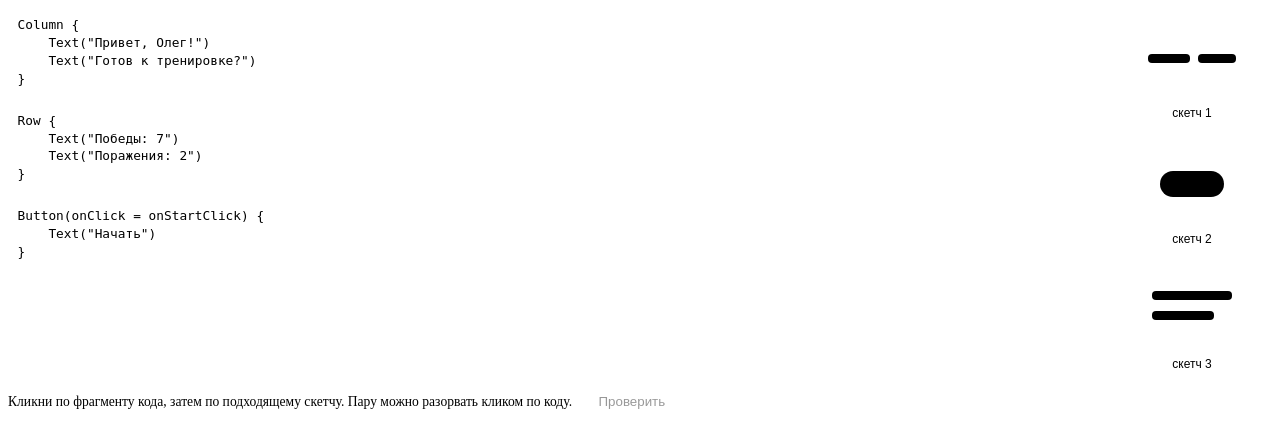
Scenario: click code then sketch creates a pair badge and enables check after all three
Click the button "Column { Text(\"Привет, Олег!\") Text(\"Готов к тренировке?\") }" at (48, 24), box [8,8,1096,96]
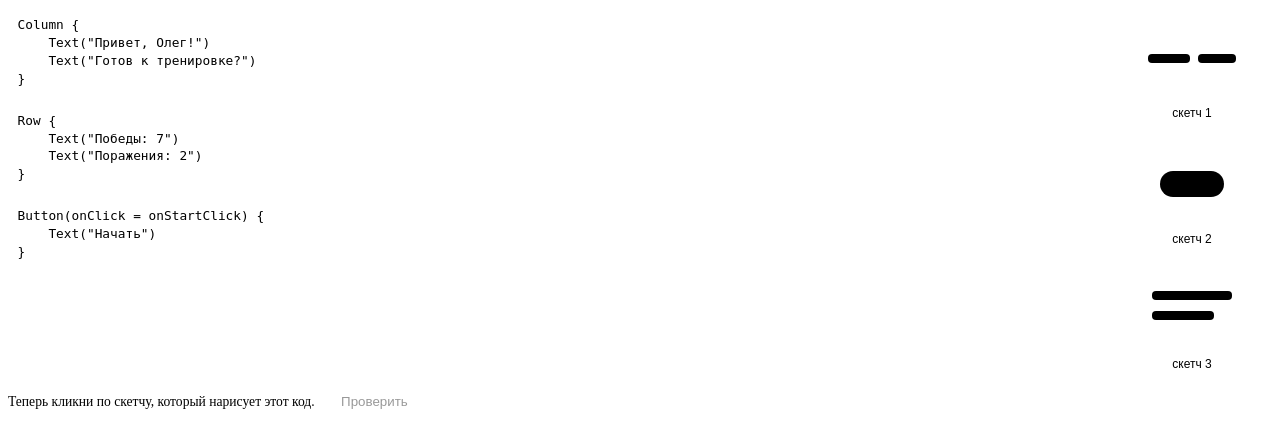
Click the button labelled "скетч 3" at (1192, 318), box [1112,259,1272,377]
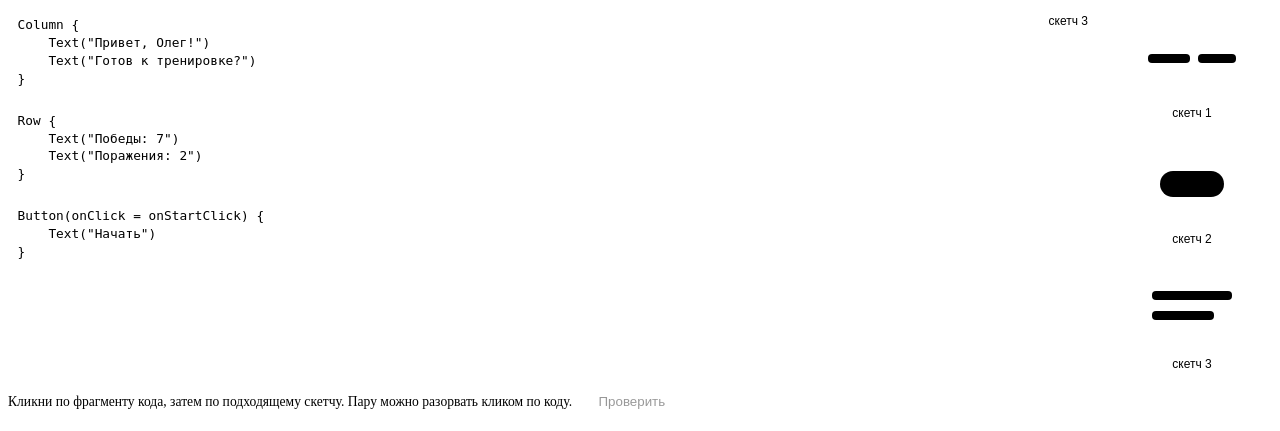
Check: the button "Проверить" is disabled, box [584,389,680,415]
Check: the text with class "csm-badge" reads "скетч 3", box [1049,14,1088,28]
Click the button "Row { Text(\"Победы: 7\") Text(\"Поражения: 2\") }" at (37, 120), box [8,104,1096,191]
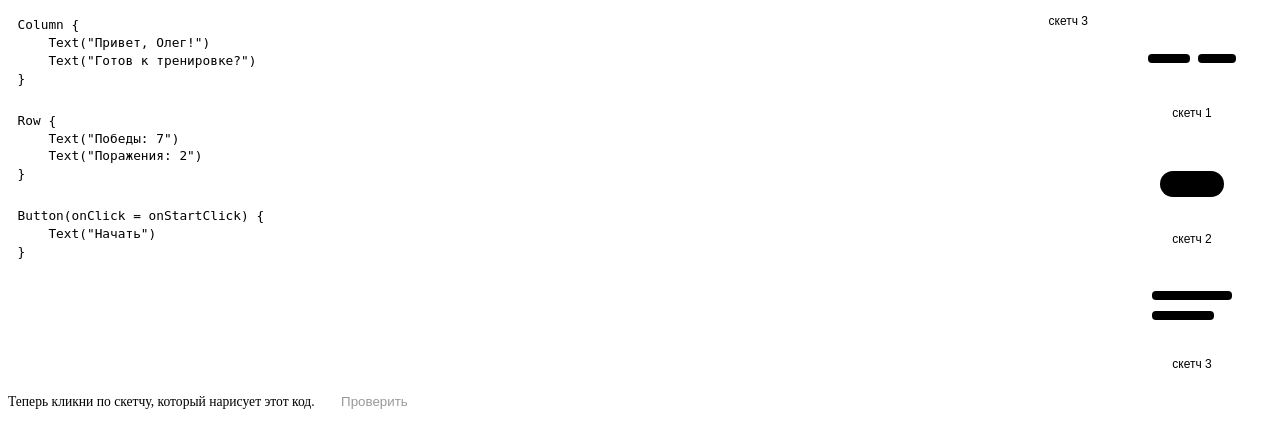
Click the button labelled "скетч 1" at (1192, 67), box [1112,8,1272,126]
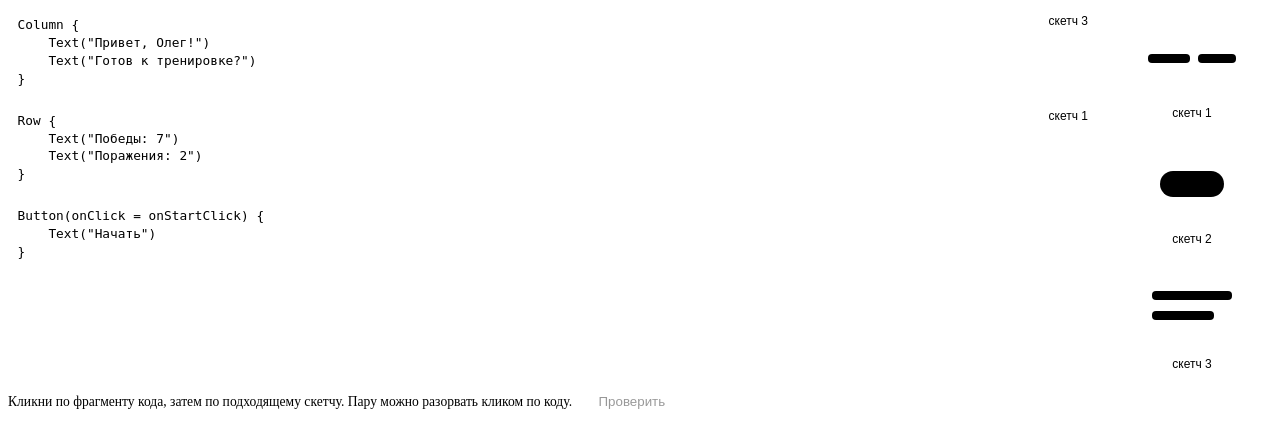
Click the button "Button(onClick = onStartClick) { Text(\"Начать\") }" at (141, 216), box [8,199,1096,269]
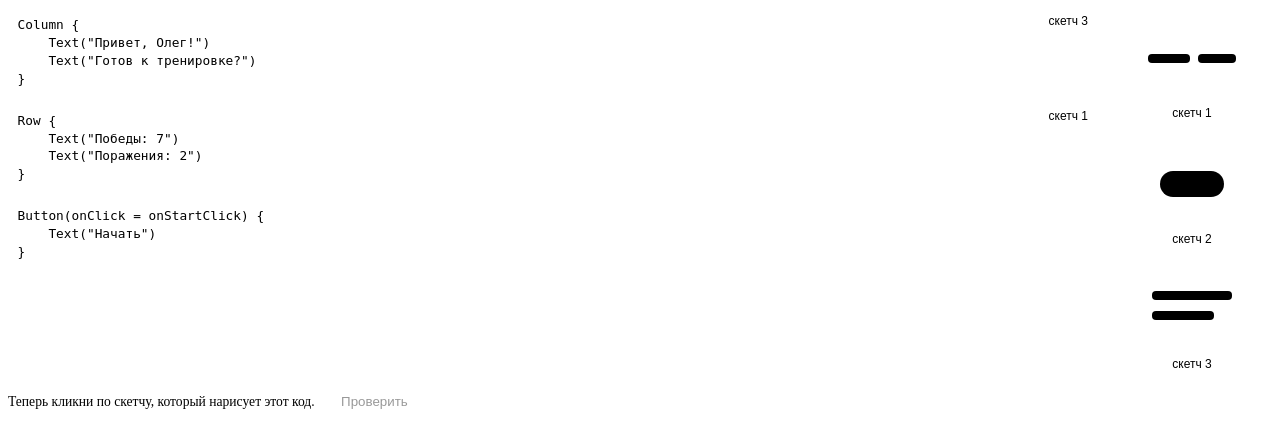
Click the button labelled "скетч 2" at (1192, 192), box [1112,134,1272,251]
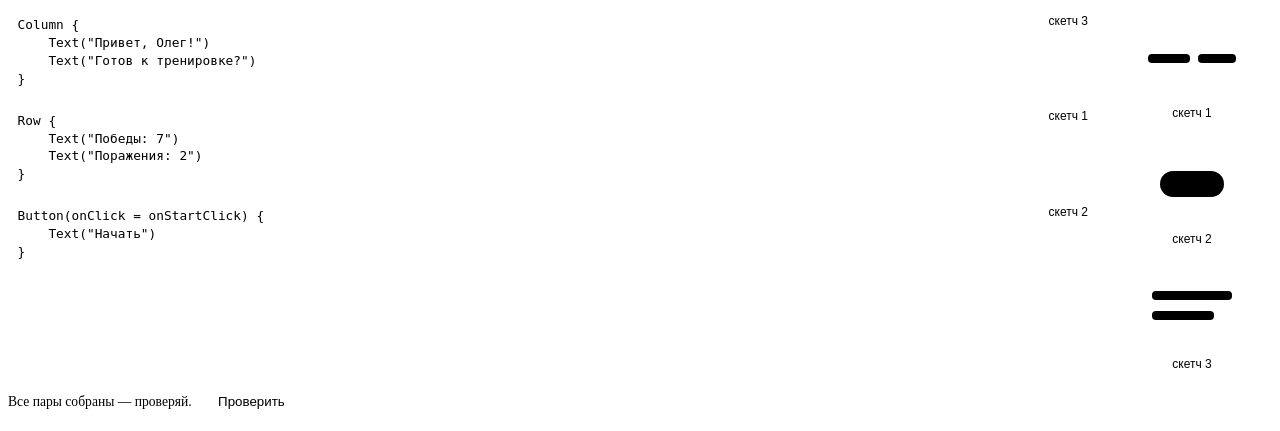
Check: the button "Проверить" is enabled, box [204,389,299,415]
